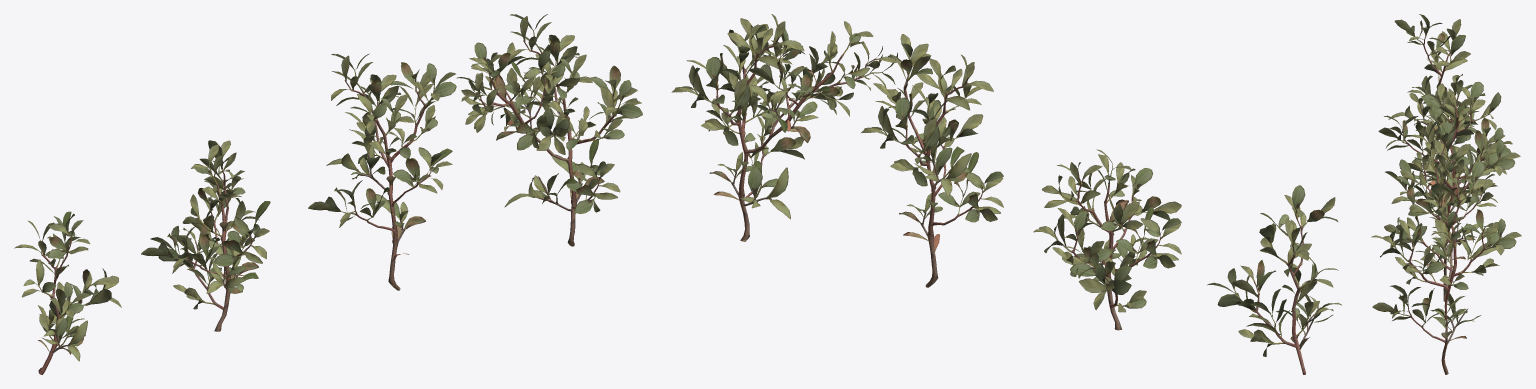
The model's file is shrub_04.glb.
3 views of the same model, side by side, from view 1: azimuth 30°, elevation 25°; view 2: azimuth 150°, elevation 25°; view 3: azimuth 270°, elevation 25° (orthographic). The views are drawn at different scales.
Visible parts, largest first — view 1: shrub_04; view 2: shrub_04; view 3: shrub_04.
Part boxes in pixels (x1=…): shrub_04: x1=14, y1=14, x2=642, y2=374; shrub_04: x1=671, y1=14, x2=1341, y2=374; shrub_04: x1=1371, y1=14, x2=1521, y2=374.
Size of the model in its own units: 0.5837 by 0.2192 by 0.146.
Materials: 1 (1 with a texture image).
